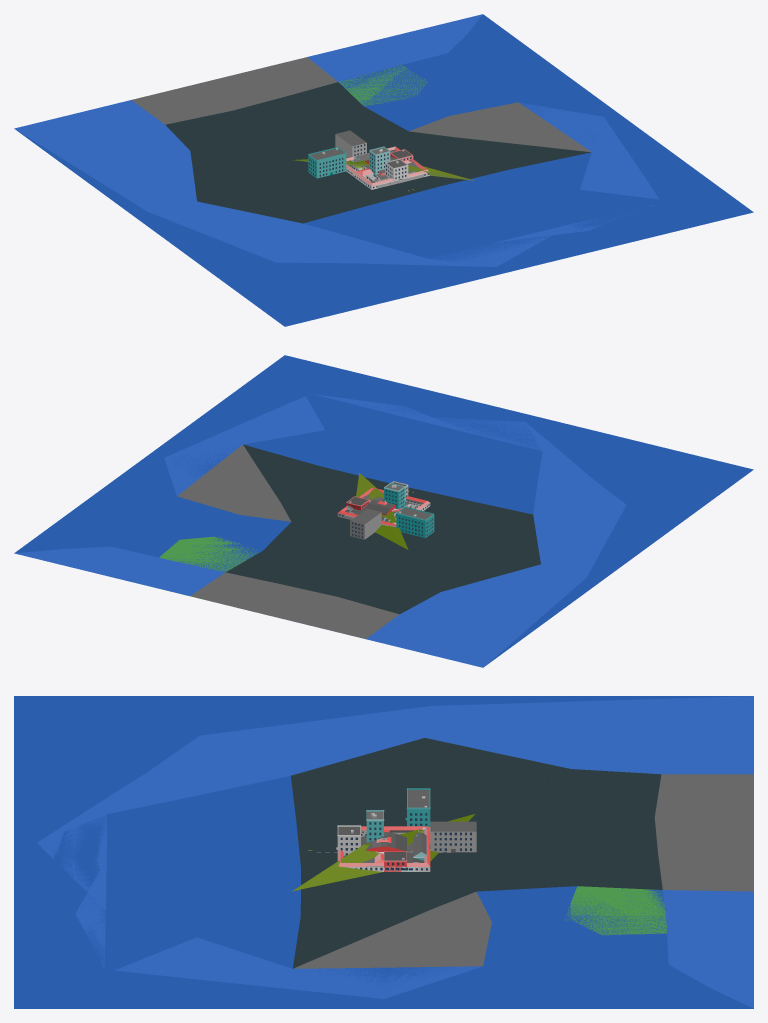
3 renders of one model, top to bottom at view 1: azimuth 30°, elevation 25°; view 2: azimuth 150°, elevation 25°; view 3: azimuth 270°, elevation 25°, orthographic. The views are drawn at different scales.
Parts seen in each view (by area): view 1: cu_000_lod0, cu_096_lod0, cu_060_lod0, cu_058_lod0, cu_059_lod0, cu_057_lod0, cu_062_lod0_s1v0, cu_001_lod0, cu_062_lod0_s1v0_detail, cu_097_lod0; view 2: cu_000_lod0, cu_096_lod0, cu_060_lod0, cu_058_lod0, cu_057_lod0, cu_059_lod0, cu_062_lod0_s1v0, cu_001_lod0, cu_068_lod0, cu_062_lod0_s1v0_detail, cu_002_lod0; view 3: cu_000_lod0, cu_096_lod0, cu_060_lod0, cu_058_lod0, cu_057_lod0, cu_059_lod0, cu_062_lod0_s1v0, cu_002_lod0, cu_001_lod0, cu_068_lod0, cu_097_lod0, cu_062_lod0_s1v0_detail (+1 smaller).
Part boxes in pixels (x1,y1,x2,y2): cu_000_lod0: [14, 14, 659, 266]; cu_096_lod0: [16, 65, 752, 326]; cu_060_lod0: [82, 14, 617, 276]; cu_058_lod0: [368, 81, 752, 211]; cu_059_lod0: [82, 65, 752, 227]; cu_057_lod0: [150, 154, 752, 276]; cu_062_lod0_s1v0: [308, 130, 413, 178]; cu_001_lod0: [465, 153, 751, 211]; cu_062_lod0_s1v0_detail: [308, 144, 413, 176]; cu_097_lod0: [346, 146, 429, 189]; cu_000_lod0: [15, 394, 626, 667]; cu_096_lod0: [232, 355, 753, 666]; cu_060_lod0: [14, 438, 685, 617]; cu_058_lod0: [149, 355, 284, 548]; cu_057_lod0: [270, 355, 684, 568]; cu_059_lod0: [168, 355, 617, 617]; cu_062_lod0_s1v0: [346, 484, 434, 539]; cu_001_lod0: [243, 356, 364, 476]; cu_068_lod0: [356, 473, 408, 549]; cu_062_lod0_s1v0_detail: [346, 482, 434, 537]; cu_002_lod0: [244, 357, 363, 475]; cu_000_lod0: [37, 696, 753, 1008]; cu_096_lod0: [14, 696, 751, 1008]; cu_060_lod0: [110, 696, 753, 1008]; cu_058_lod0: [14, 886, 601, 1008]; cu_057_lod0: [15, 696, 386, 1008]; cu_059_lod0: [14, 696, 667, 1008]; cu_062_lod0_s1v0: [366, 790, 476, 871]; cu_002_lod0: [20, 894, 545, 1007]; cu_001_lod0: [18, 885, 300, 1008]; cu_068_lod0: [292, 813, 475, 891]; cu_097_lod0: [337, 826, 430, 871]; cu_062_lod0_s1v0_detail: [366, 788, 471, 870].
Size of what is drawn, in the model's own units: 4096 by 210 by 4096.
